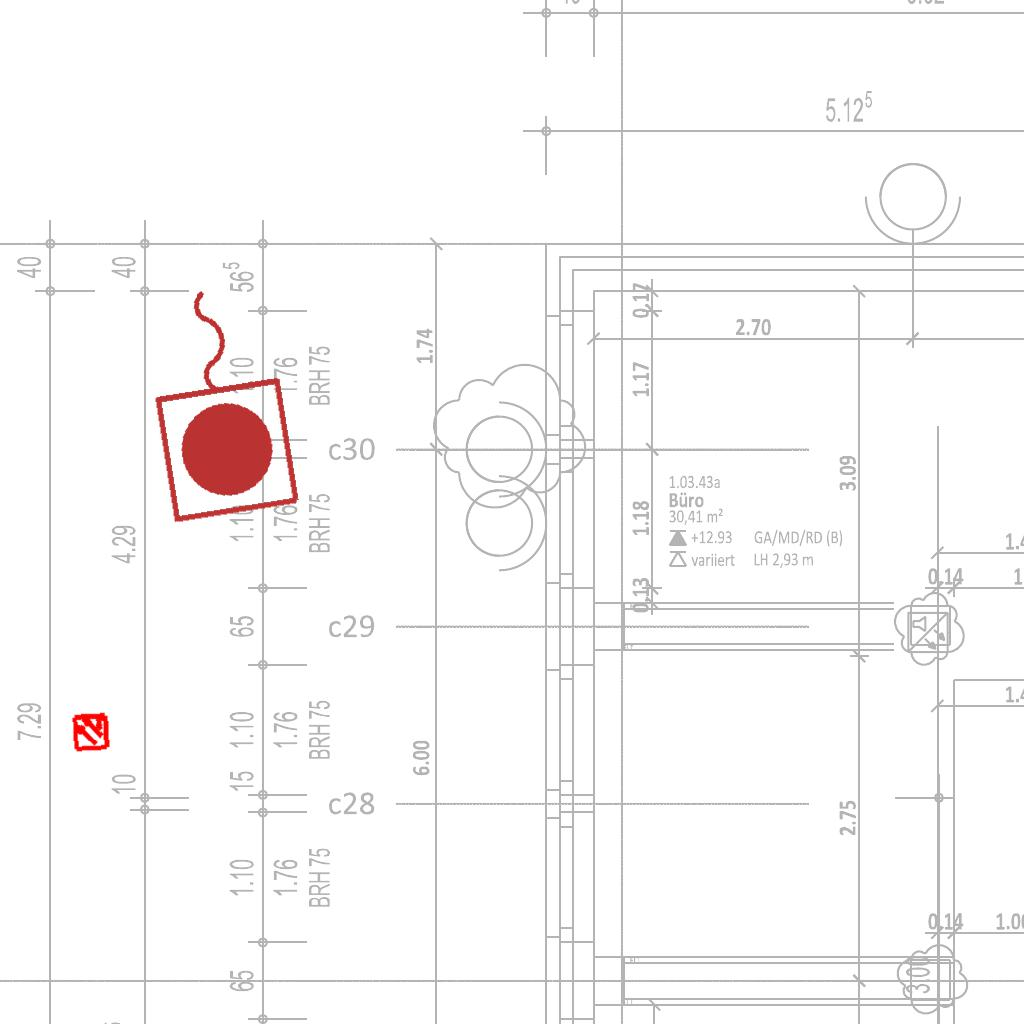OT_Multisensormelder_(Kombination_RMO_WMD): (61, 701, 121, 761)
Zugtaster: (130, 268, 312, 532)
